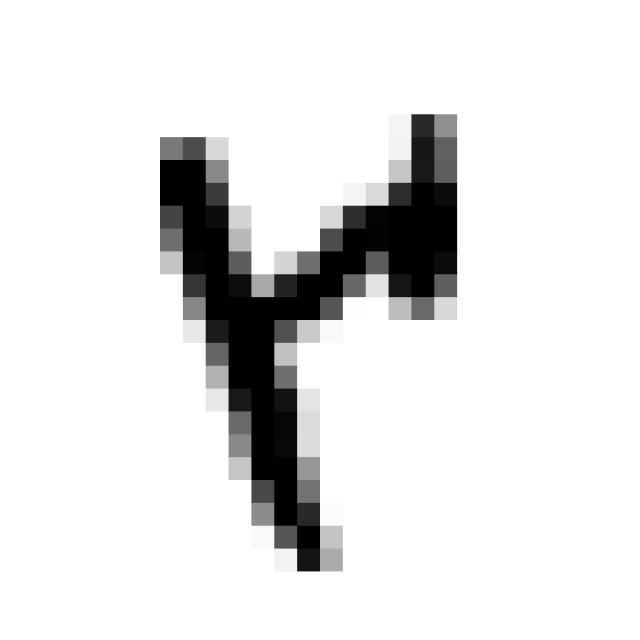3 -three-: (135, 91, 484, 582)
